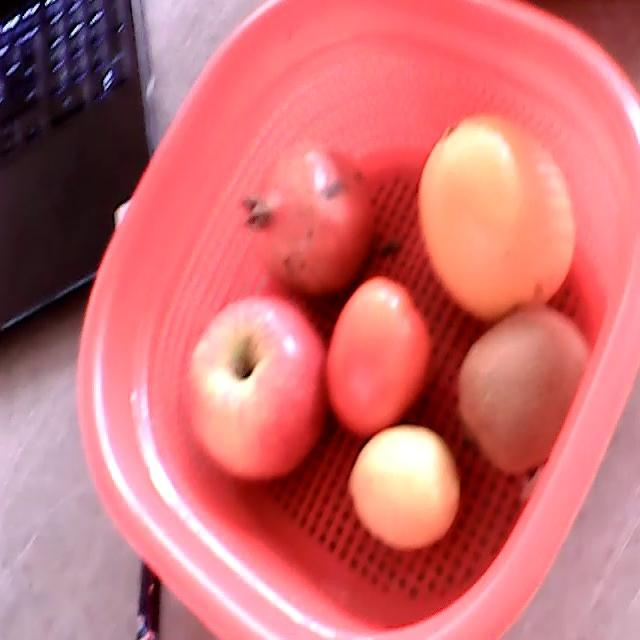apple: (184, 295, 325, 490)
kiwi: (454, 304, 588, 476)
lemon: (347, 424, 462, 553)
orange: (415, 114, 576, 331)
pomegranate: (241, 137, 377, 299)
tomato: (325, 273, 435, 443)
